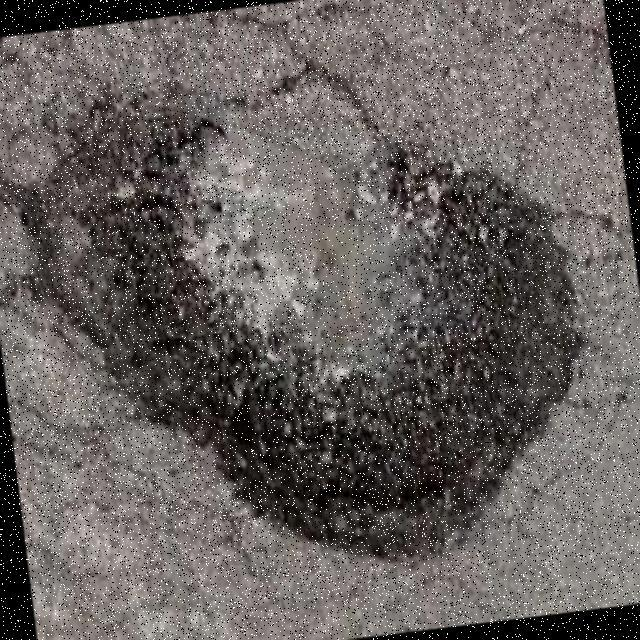Pothole: (24, 97, 584, 565)
